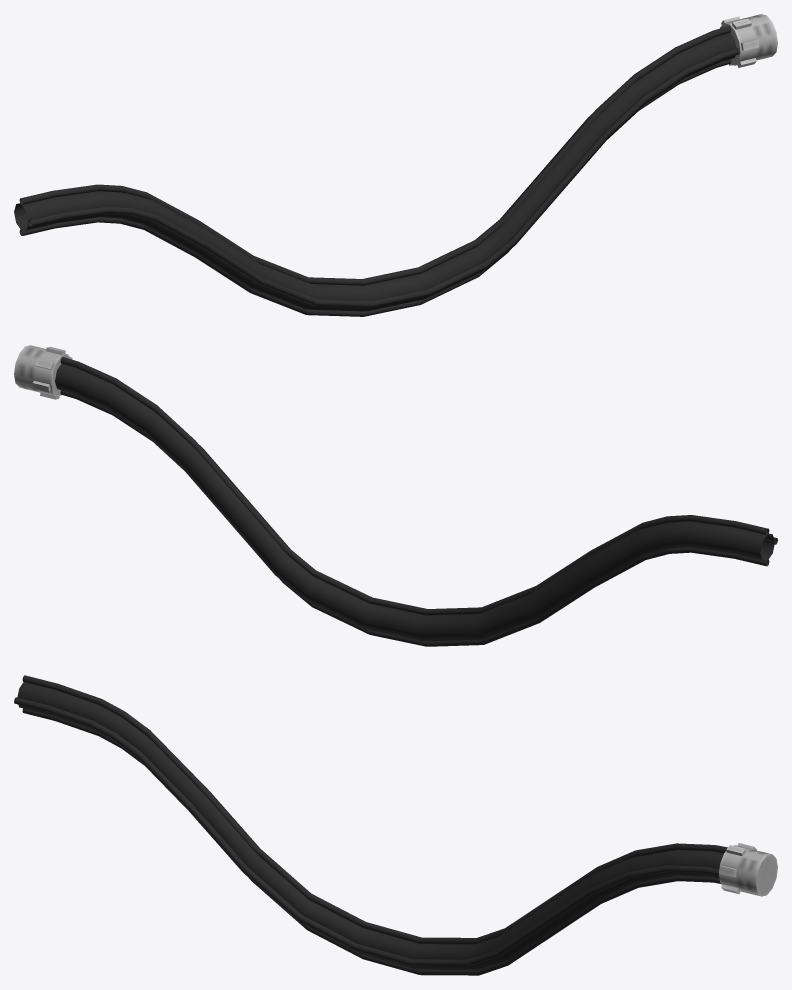
File: ElectricalWires03_08.glb
3 views of the same model, one above another, from view 1: azimuth 30°, elevation 25°; view 2: azimuth 150°, elevation 25°; view 3: azimuth 330°, elevation 25° (orthographic).
Parts seen in each view (by area): view 1: NurbsPath_008; view 2: NurbsPath_008; view 3: NurbsPath_008.
Part boxes in pixels (x1=…): NurbsPath_008: x1=14, y1=14, x2=777, y2=316; NurbsPath_008: x1=14, y1=345, x2=777, y2=646; NurbsPath_008: x1=14, y1=675, x2=777, y2=975.
Size of the model in its own units: 2.68 by 0.7143 by 0.1567.
Materials: 1 (1 with a texture image).
